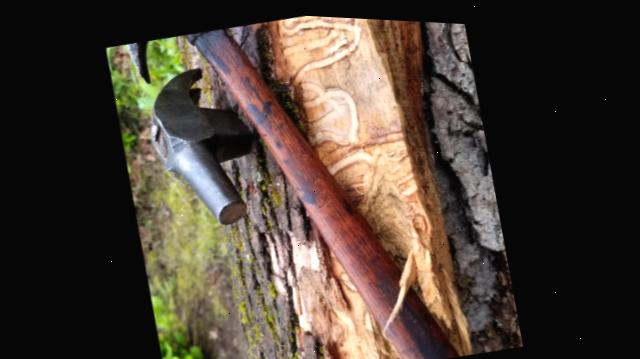hammer: (110, 5, 496, 359)
